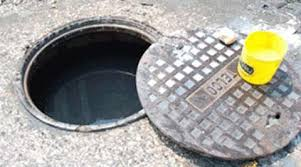manhole: (7, 4, 290, 164)
